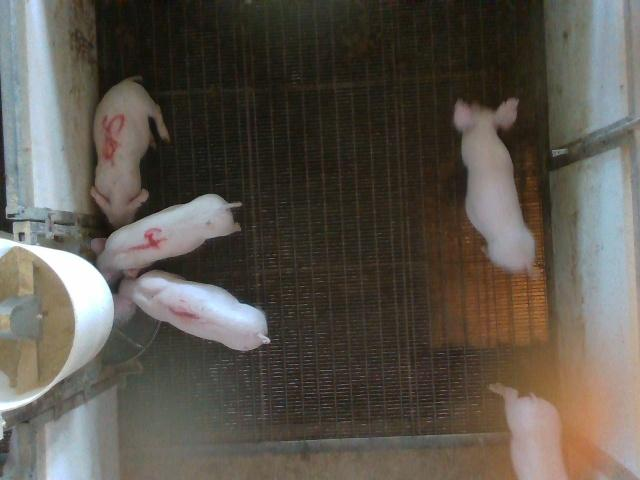pig-1: (120, 270, 270, 351)
pig-4: (98, 194, 241, 282)
pig-5: (91, 76, 170, 228)
